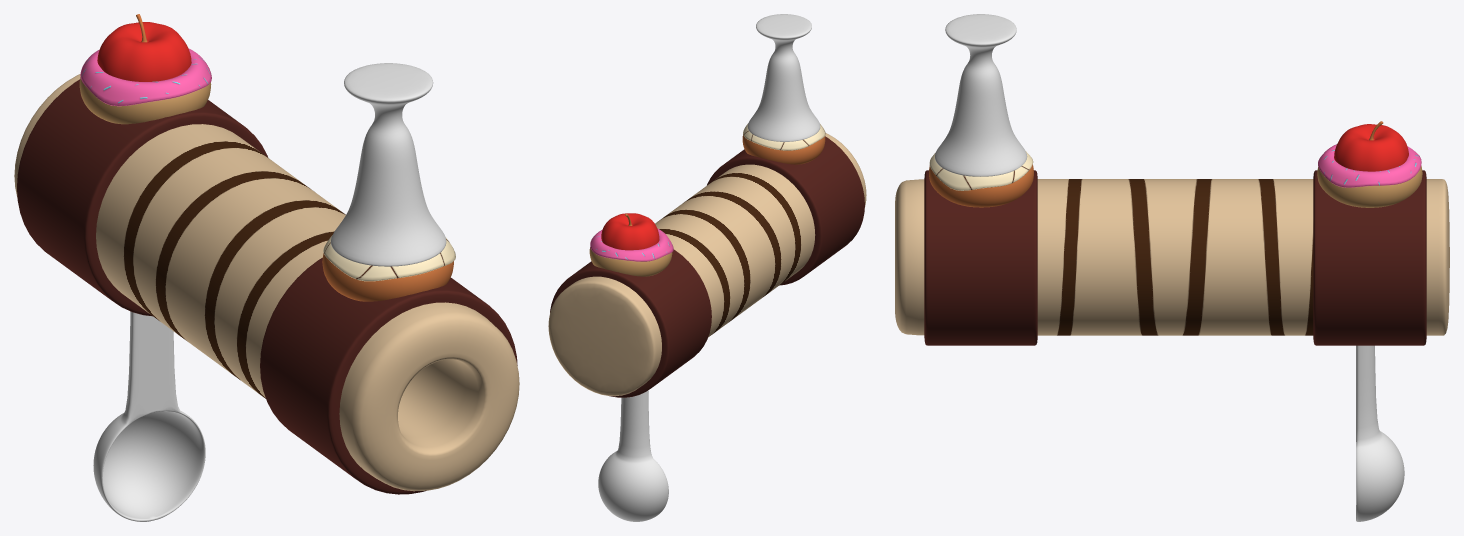
Rendered from 1.1_Sorvete.fbx.
3 views of the same model, side by side, from view 1: azimuth 30°, elevation 25°; view 2: azimuth 150°, elevation 25°; view 3: azimuth 270°, elevation 25° (orthographic). The views are drawn at different scales.
Parts seen in each view (by area): view 1: Canudo, Chocolate_1, Chocolate_2, Colher, Copo, Maca, Donut_MolhoRosa, Donut_1, Donut_2, Donut_MolhoBege; view 2: Canudo, Chocolate_2, Chocolate_1, Colher, Copo, Maca, Donut_MolhoRosa, Donut_1, Donut_2, Donut_MolhoBege; view 3: Canudo, Chocolate_1, Chocolate_2, Copo, Colher, Maca, Donut_MolhoRosa, Donut_2, Donut_1, Donut_MolhoBege.
Part boxes in pixels (x1,y1,x2,y2): Canudo: (14, 74, 519, 491); Chocolate_1: (260, 258, 517, 494); Chocolate_2: (17, 79, 267, 316); Colher: (93, 311, 205, 521); Copo: (330, 63, 446, 266); Maca: (97, 14, 191, 81); Donut_MolhoRosa: (80, 48, 211, 106); Donut_1: (322, 253, 453, 301); Donut_2: (79, 77, 211, 124); Donut_MolhoBege: (323, 235, 455, 281); Canudo: (548, 133, 866, 396); Chocolate_2: (550, 249, 711, 397); Chocolate_1: (707, 136, 864, 285); Colher: (598, 390, 668, 521); Copo: (747, 14, 820, 141); Maca: (601, 213, 659, 250); Donut_MolhoRosa: (590, 228, 673, 261); Donut_1: (742, 135, 825, 164); Donut_2: (589, 247, 672, 276); Donut_MolhoBege: (743, 124, 825, 150); Canudo: (895, 179, 1449, 335); Chocolate_1: (924, 170, 1037, 345); Chocolate_2: (1313, 170, 1426, 345); Copo: (935, 14, 1027, 176); Colher: (1356, 345, 1404, 521); Maca: (1334, 121, 1408, 171); Donut_MolhoRosa: (1318, 144, 1421, 187); Donut_2: (1317, 166, 1422, 207); Donut_1: (929, 164, 1033, 207); Donut_MolhoBege: (929, 151, 1033, 190).
Size of the model in its own units: 193 by 596 by 611.
